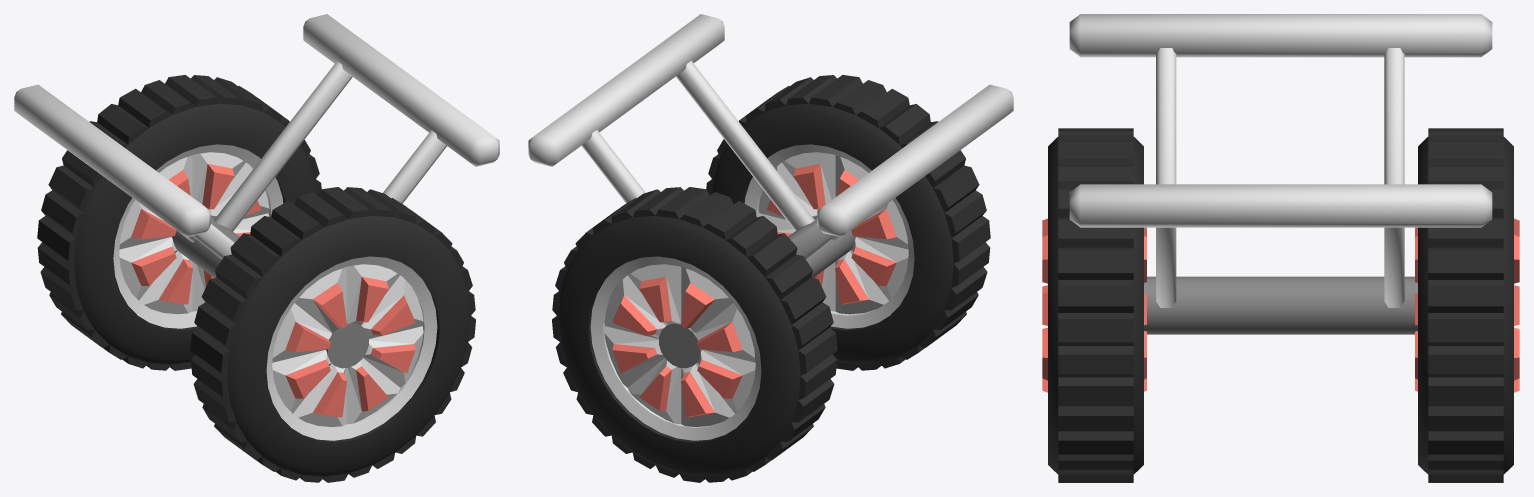
The model's file is wheels_rubber_big.fbx.
The picture shows the model from 3 angles, left to right: view 1: azimuth 30°, elevation 25°; view 2: azimuth 150°, elevation 25°; view 3: azimuth 270°, elevation 25°; orthographic projection. The views are drawn at different scales.
Parts seen in each view (by area): view 1: wheels_rubber_big; view 2: wheels_rubber_big; view 3: wheels_rubber_big.
Part boxes in pixels (<box>): wheels_rubber_big: <box>14,14,499,482</box>; wheels_rubber_big: <box>528,14,1013,482</box>; wheels_rubber_big: <box>1042,14,1519,482</box>.
Size of the model in its own units: 199 by 179 by 214.
